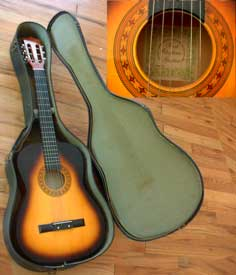guitar: (13, 33, 106, 266), (107, 1, 235, 96)
